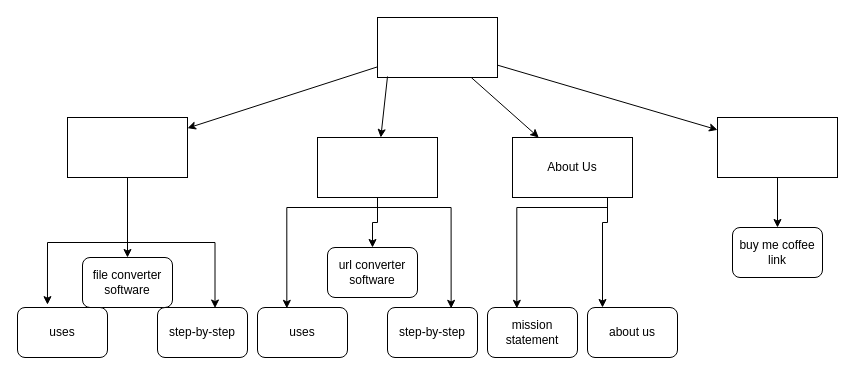
This 855x375 diagram has some shape labels left out. The shapes that lost their labels are listed below. From the top down, each one's centre as x and y in pixels, then its label:
point 437,47: Index.html(main)
point 127,147: file converter
point 377,167: url converter
point 777,147: Donate
